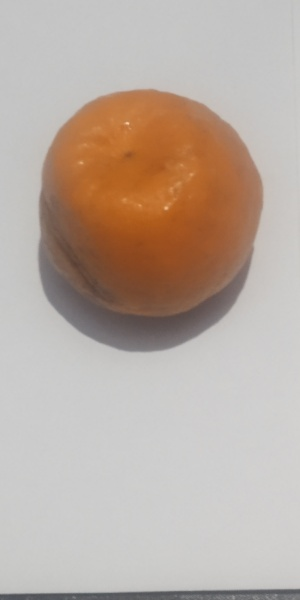BAD: (35, 85, 267, 323)
